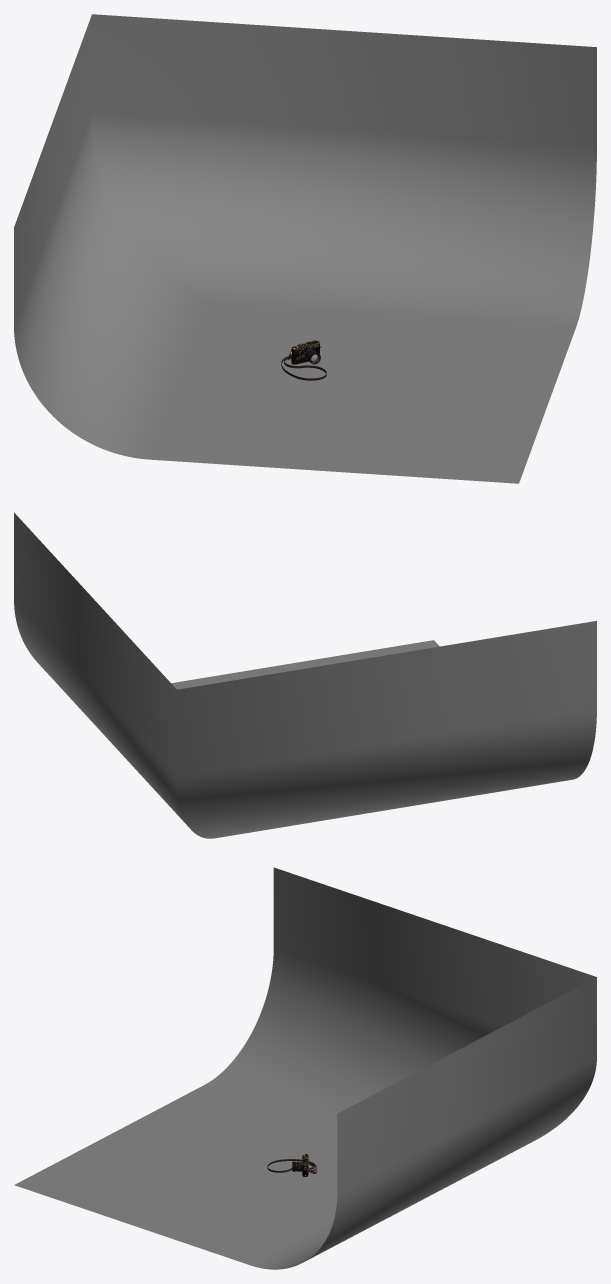
Rendered from Camera.gltf.
The picture shows the model from 3 angles, top to bottom: view 1: azimuth 30°, elevation 25°; view 2: azimuth 150°, elevation 25°; view 3: azimuth 270°, elevation 25°; orthographic projection. The views are drawn at different scales.
Visible parts, largest first — view 1: Plane, Camera_01; view 2: Plane; view 3: Plane.
Boxes of the visible parts, <box> form: Plane: <box>14,14,596,483</box>; Camera_01: <box>291,340,320,364</box>; Plane: <box>14,512,596,838</box>; Plane: <box>14,867,596,1269</box>.
Bounding box in the file's own units: 14.33 × 4.91 × 14.33.
Materials: 5 (3 with a texture image).
